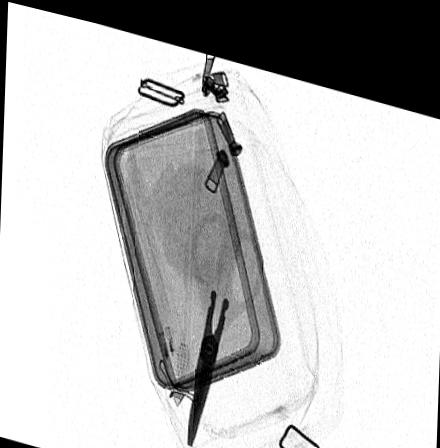Scissors: (184, 196, 263, 438)
